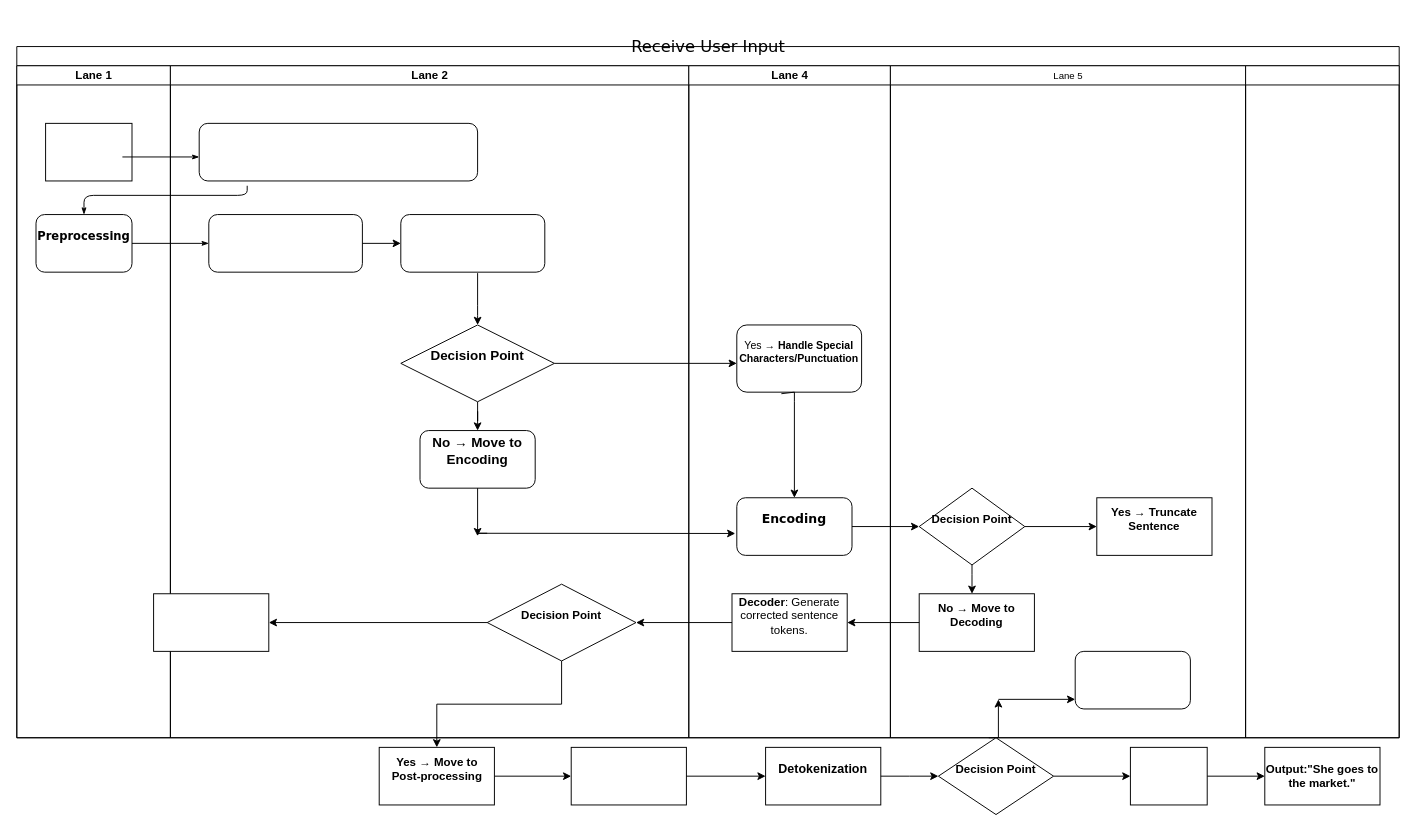
This 1416x831 diagram has some shape labels left out. The shapes that lost their labels are listed below. From the top down, each one's centre as x and y in pixels, then its label:
pixel 88 151: start
pixel 338 151: Receive User Input "She go to the market."
pixel 285 243: Tokenization : Split the sentence into tokens.
pixel 472 243: Embedding : Convert tokens into numerical representations.
pixel 1322 401: Lane 6
pixel 211 622: No → Adjust Decoding Parameters
pixel 1132 679: Yes → Collect User Feedback
pixel 628 775: Post-processing
pixel 1168 775: No → Move to Output
